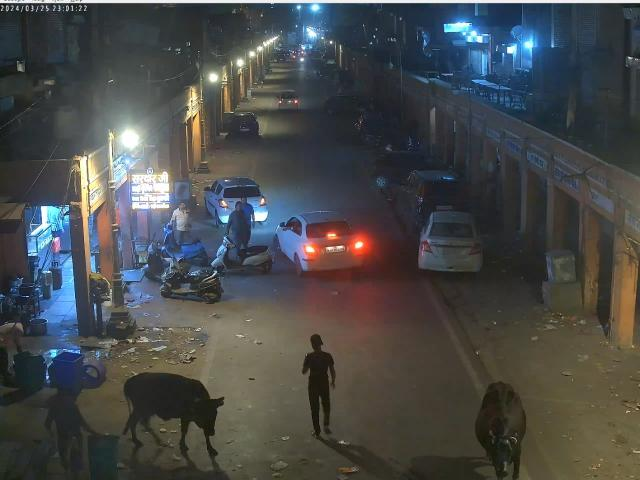car: (276, 212, 366, 276), (415, 209, 484, 274), (398, 170, 466, 222), (203, 178, 269, 226)
cattle: (122, 371, 224, 457), (473, 379, 526, 480)
license_plate: (440, 247, 462, 255), (327, 246, 345, 252), (437, 205, 452, 210)
person: (300, 330, 336, 438), (227, 202, 250, 245), (172, 202, 193, 246), (237, 195, 256, 235)
scooty: (159, 261, 223, 300), (212, 237, 273, 274), (159, 223, 208, 262), (140, 244, 190, 278)
